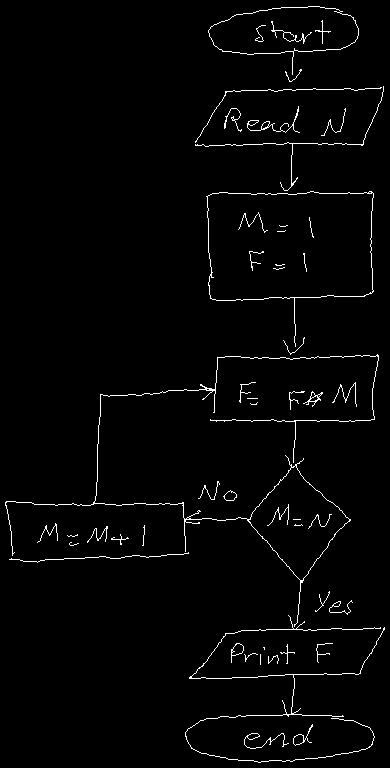arrow: (92, 384, 214, 504), (283, 298, 304, 354), (285, 420, 303, 467), (185, 510, 250, 523), (288, 580, 304, 629), (280, 144, 297, 190), (282, 674, 300, 716), (285, 48, 301, 81)
data: (195, 86, 383, 146), (189, 627, 384, 678)
decision: (247, 464, 350, 582)
process: (206, 191, 373, 300), (210, 354, 378, 421), (5, 501, 188, 562)
terminator: (185, 714, 374, 762), (208, 6, 358, 54)
text: (238, 212, 313, 271), (224, 106, 345, 135), (239, 382, 356, 409), (37, 523, 144, 545), (231, 643, 332, 664), (255, 20, 330, 43), (244, 724, 312, 748), (267, 504, 331, 528), (315, 591, 352, 614), (198, 481, 236, 500)
